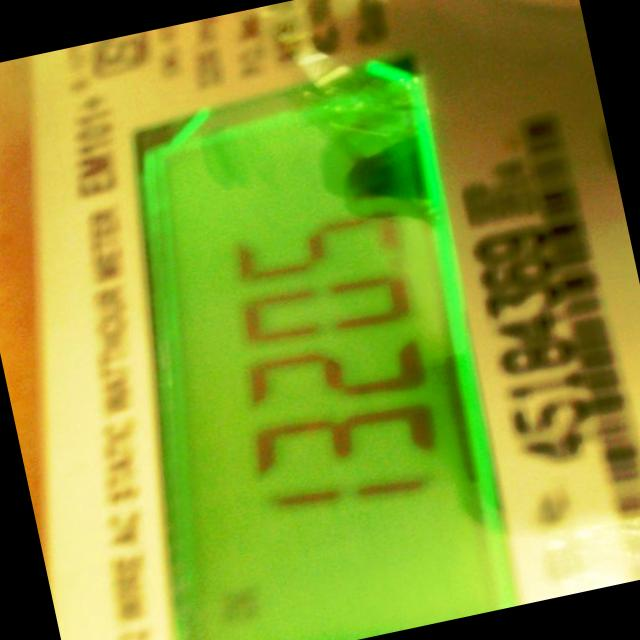LCD: (50, 30, 553, 640)
